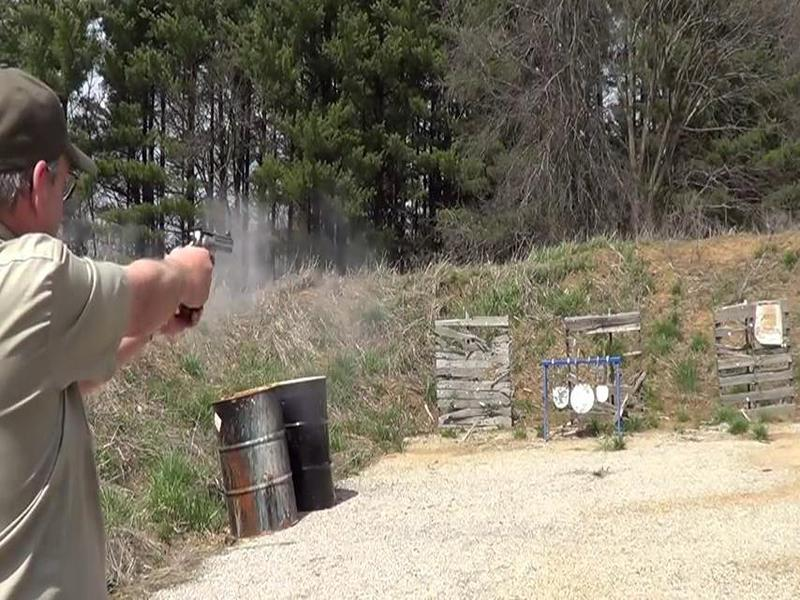Revolver: (172, 217, 247, 330)
